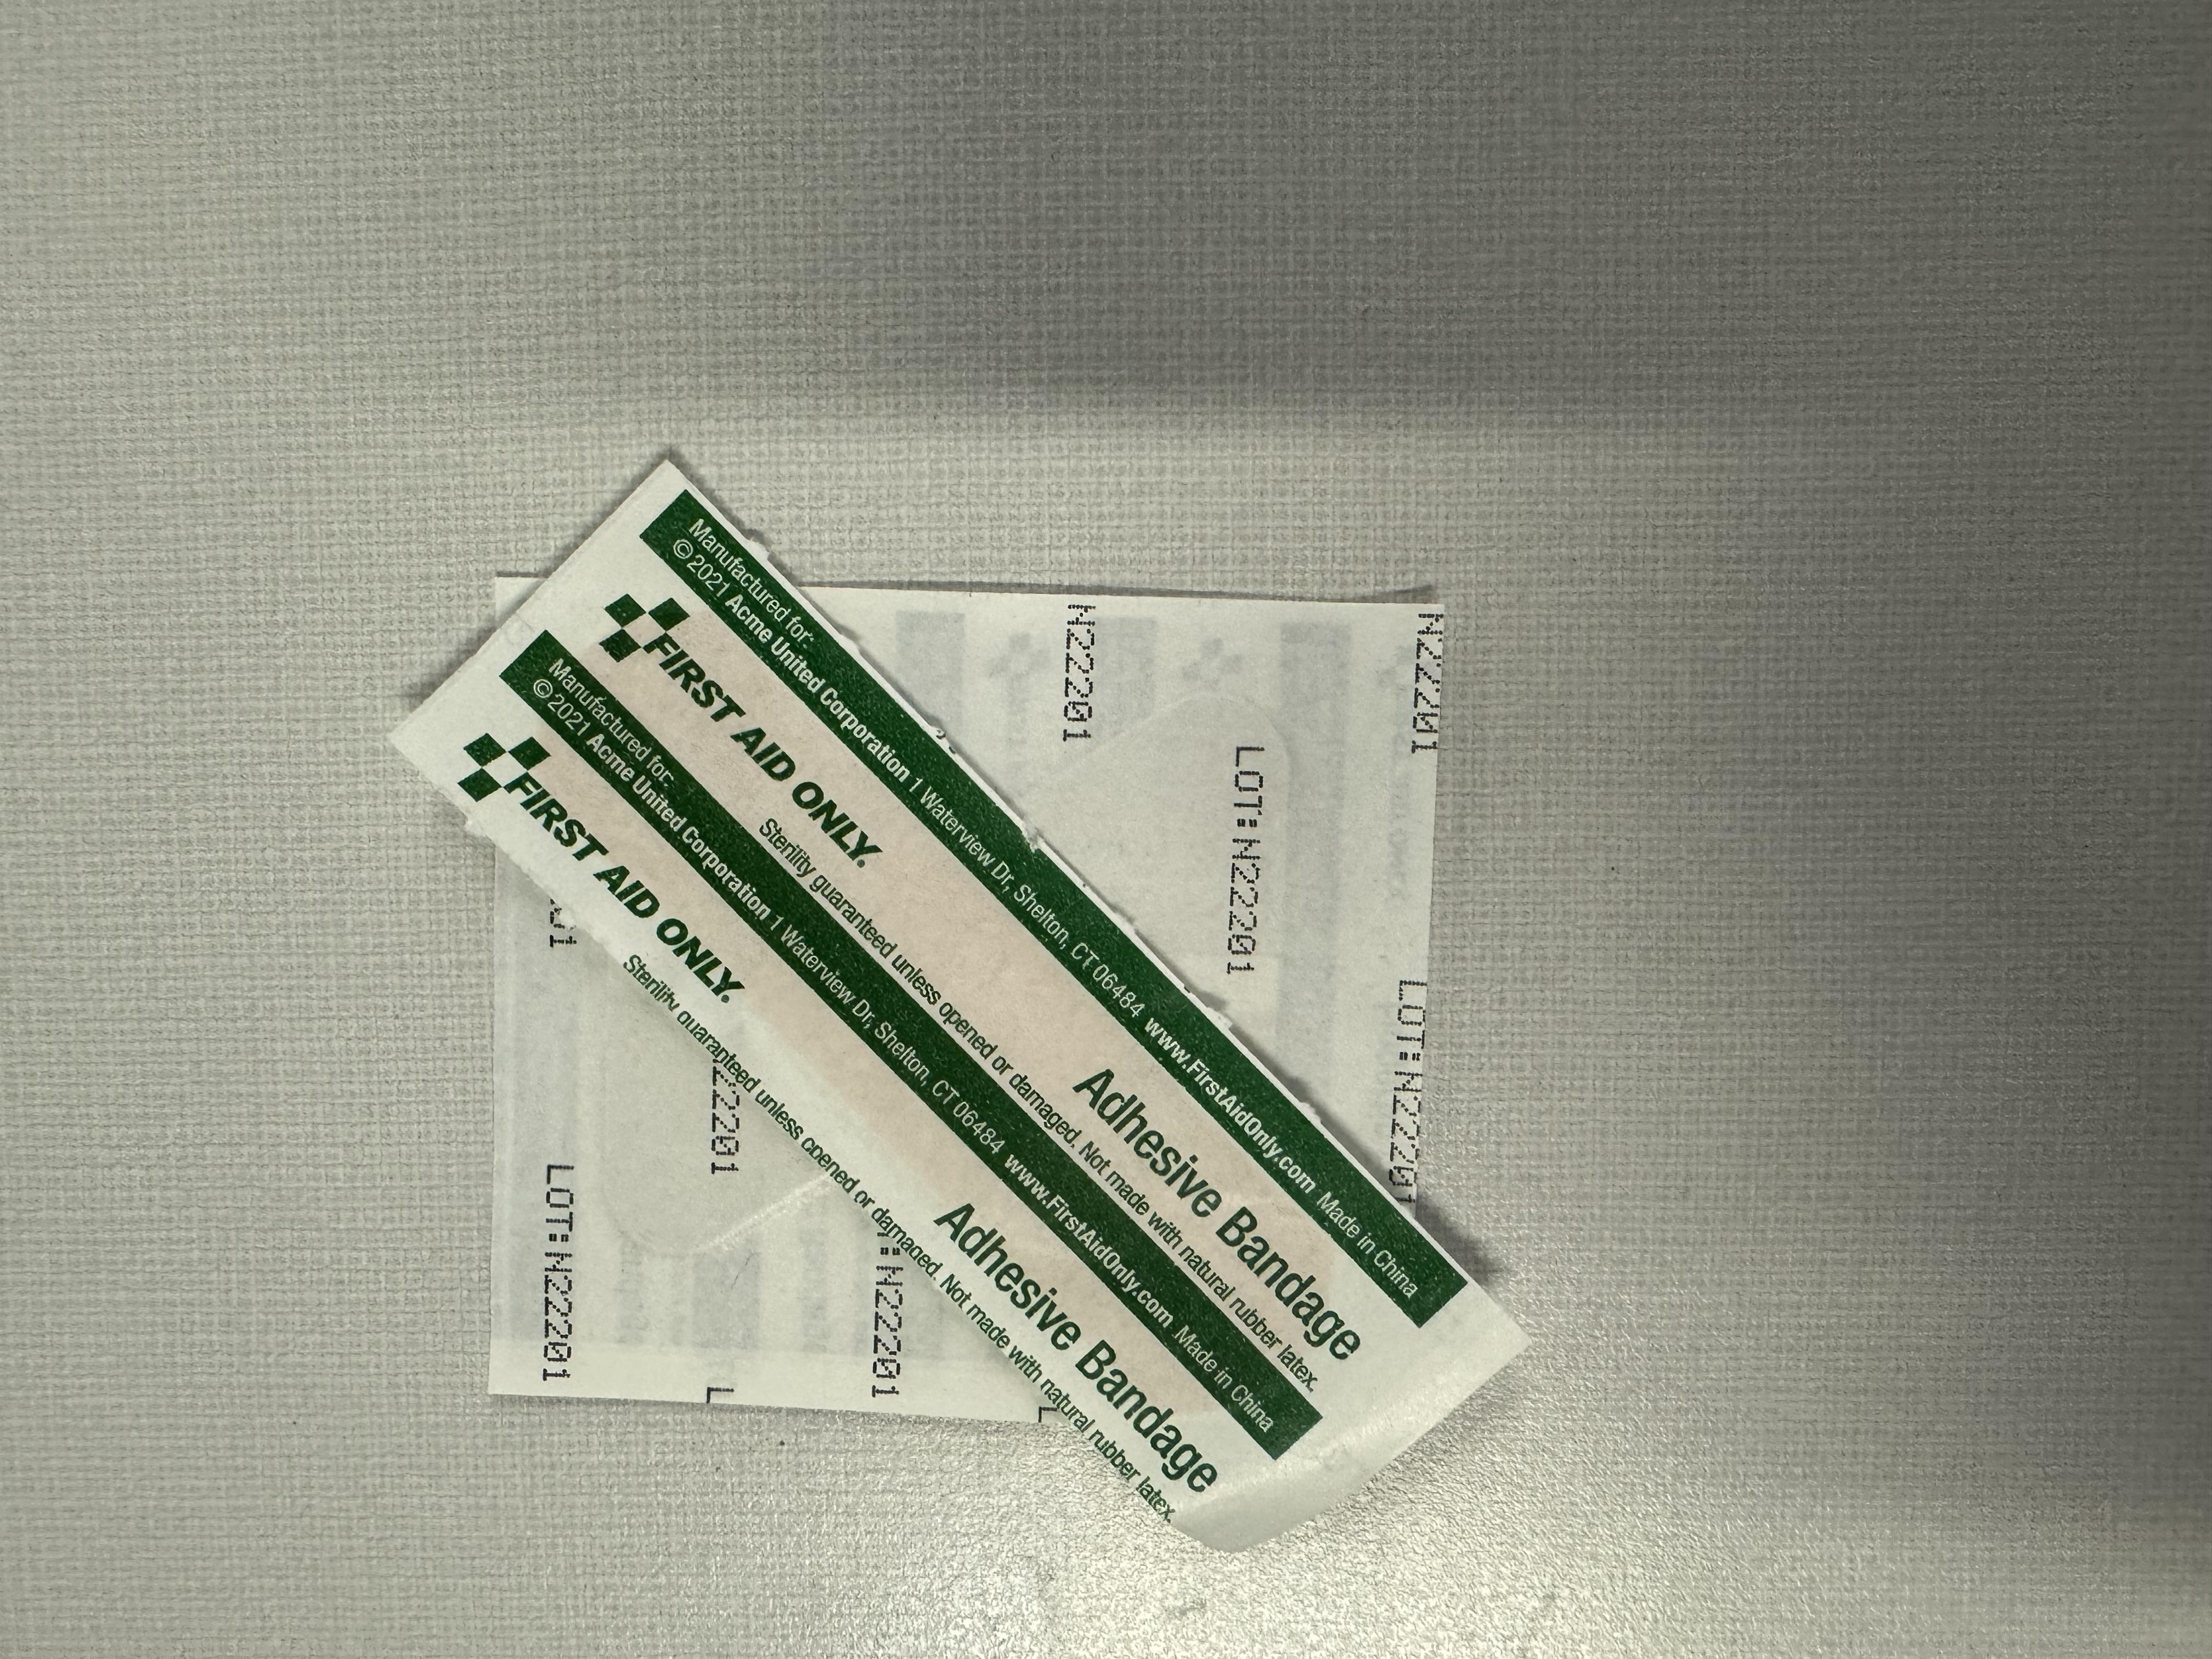bandage: (615, 80, 1878, 1215)
